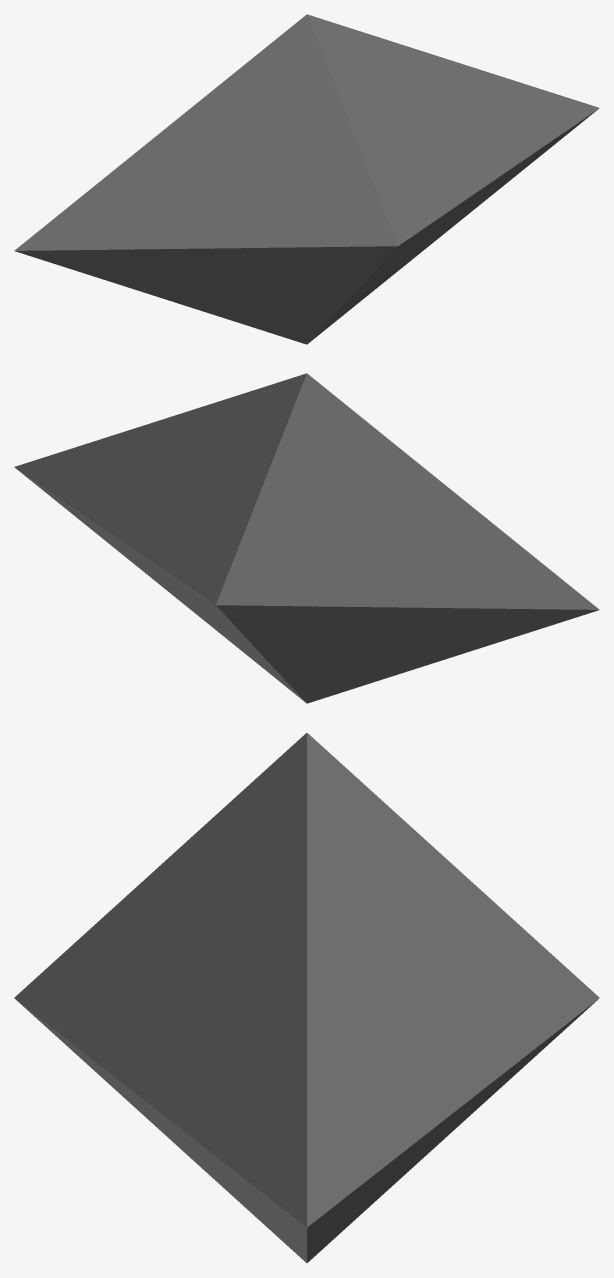
The model's file is spaceDust.obj.
3 views of the same model, one above another, from view 1: azimuth 30°, elevation 25°; view 2: azimuth 150°, elevation 25°; view 3: azimuth 270°, elevation 25° (orthographic). The views are drawn at different scales.
Parts seen in each view (by area): view 1: 立方体; view 2: 立方体; view 3: 立方体.
Part boxes in pixels (bbox=[...]): 立方体: bbox=[14, 14, 599, 344]; 立方体: bbox=[14, 373, 599, 703]; 立方体: bbox=[14, 733, 599, 1262].
Size of the model in its own units: 3.43 by 1.85 by 1.85.
Materials: 1 (1 with a texture image).
